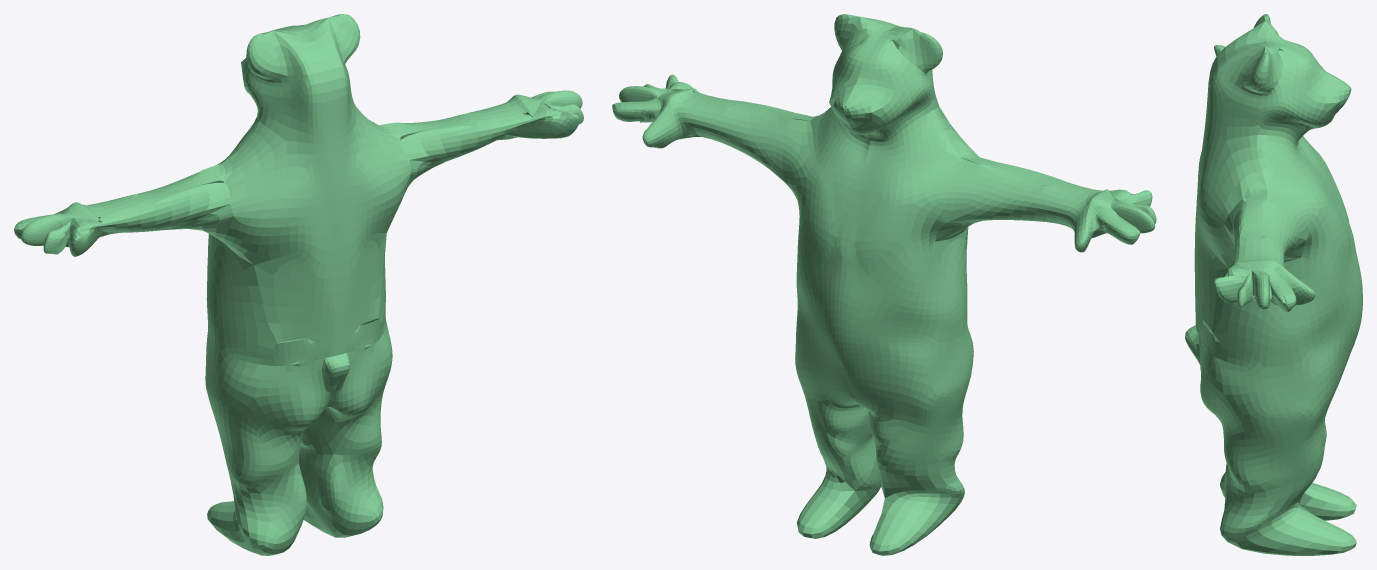
The model's file is pliks_lacis.fbx.
3 views of the same model, side by side, from view 1: azimuth 30°, elevation 25°; view 2: azimuth 150°, elevation 25°; view 3: azimuth 270°, elevation 25° (orthographic). The views are drawn at different scales.
Parts seen in each view (by area): view 1: Lacis; view 2: Lacis; view 3: Lacis.
Part boxes in pixels (<box>): Lacis: <box>14,14,583,555</box>; Lacis: <box>612,14,1156,555</box>; Lacis: <box>1185,14,1362,555</box>.
Size of the model in its own units: 534 by 474 by 152.
